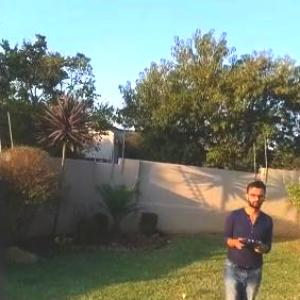follow: (225, 174, 284, 299)
